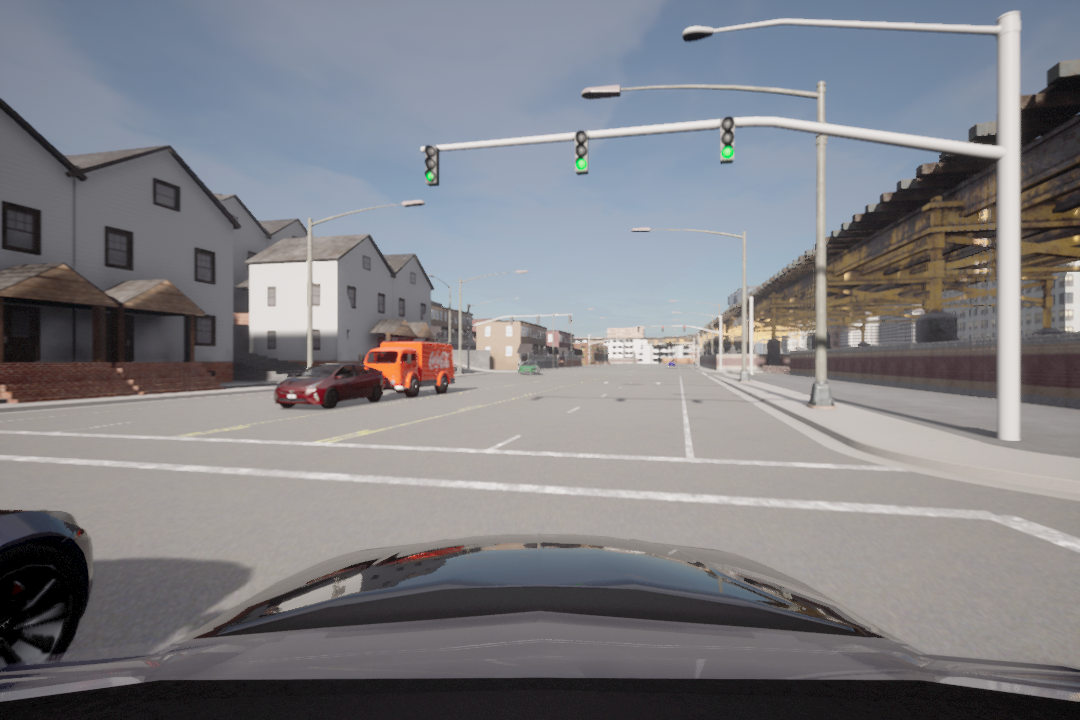TrafficLight: (717, 107, 740, 165), (424, 140, 448, 190), (571, 128, 592, 174)
